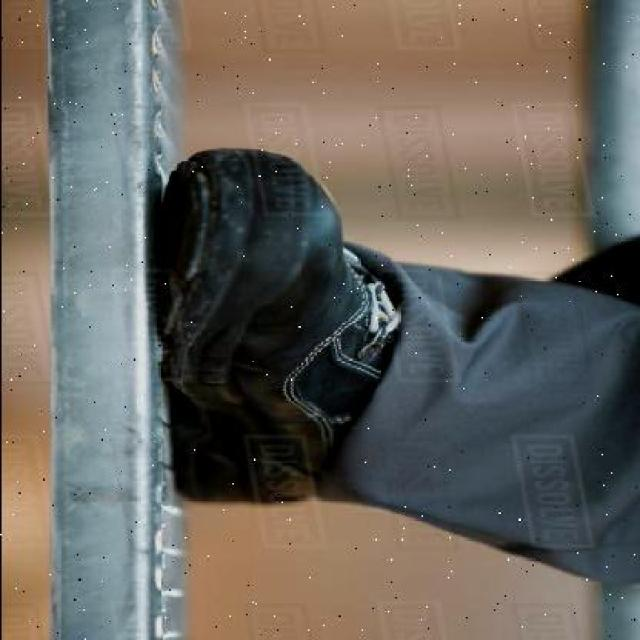shoes: (160, 153, 377, 524)
